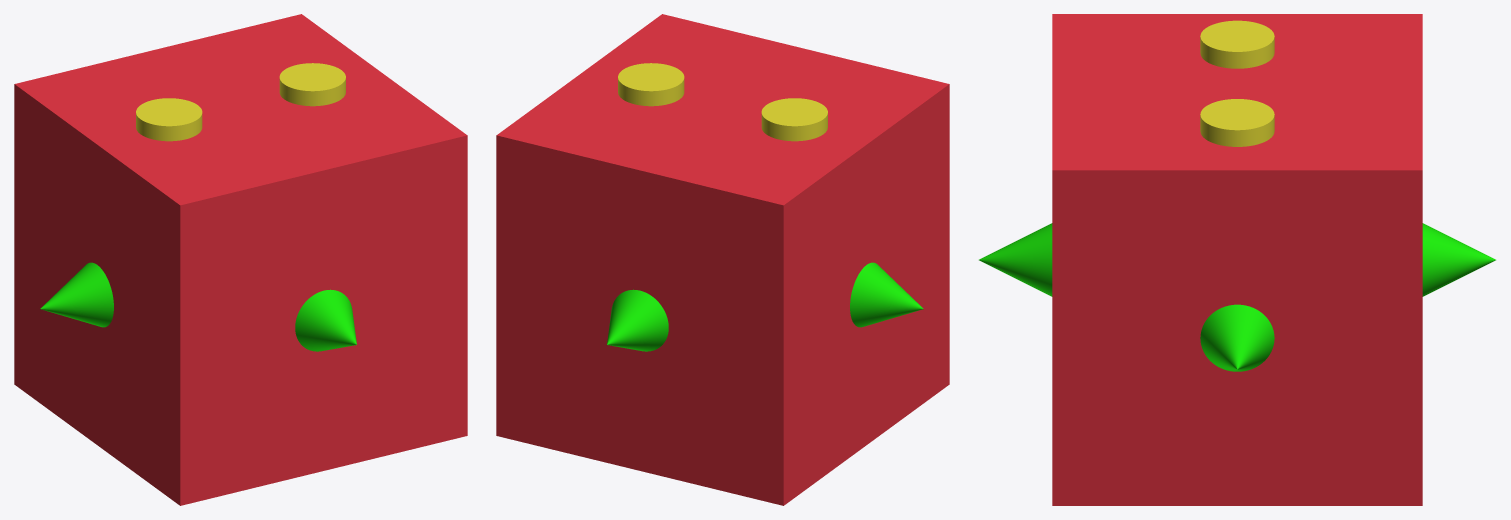
3 views of the same model, side by side, from view 1: azimuth 30°, elevation 25°; view 2: azimuth 150°, elevation 25°; view 3: azimuth 270°, elevation 25° (orthographic). The views are drawn at different scales.
Visible parts, largest first — view 1: Cube, Holes, Cone.002, Cone.003; view 2: Cube, Holes, Cone, Cone.003; view 3: Cube, Holes, Cone.001, Cone, Cone.002.
Boxes of the visible parts, box(x1,y1,x2,y2) form: Cube: box(14, 14, 467, 505); Holes: box(136, 63, 345, 141); Cone.002: box(295, 289, 356, 351); Cone.003: box(40, 262, 113, 327); Cube: box(496, 14, 949, 505); Holes: box(618, 63, 827, 141); Cone: box(607, 289, 668, 351); Cone.003: box(850, 262, 923, 327); Cube: box(1052, 14, 1422, 505); Holes: box(1200, 20, 1274, 146); Cone.001: box(1200, 304, 1274, 371); Cone: box(1422, 223, 1495, 296); Cone.002: box(979, 223, 1052, 296).
Bounding box in the file's own units: 14 × 11 × 14.
